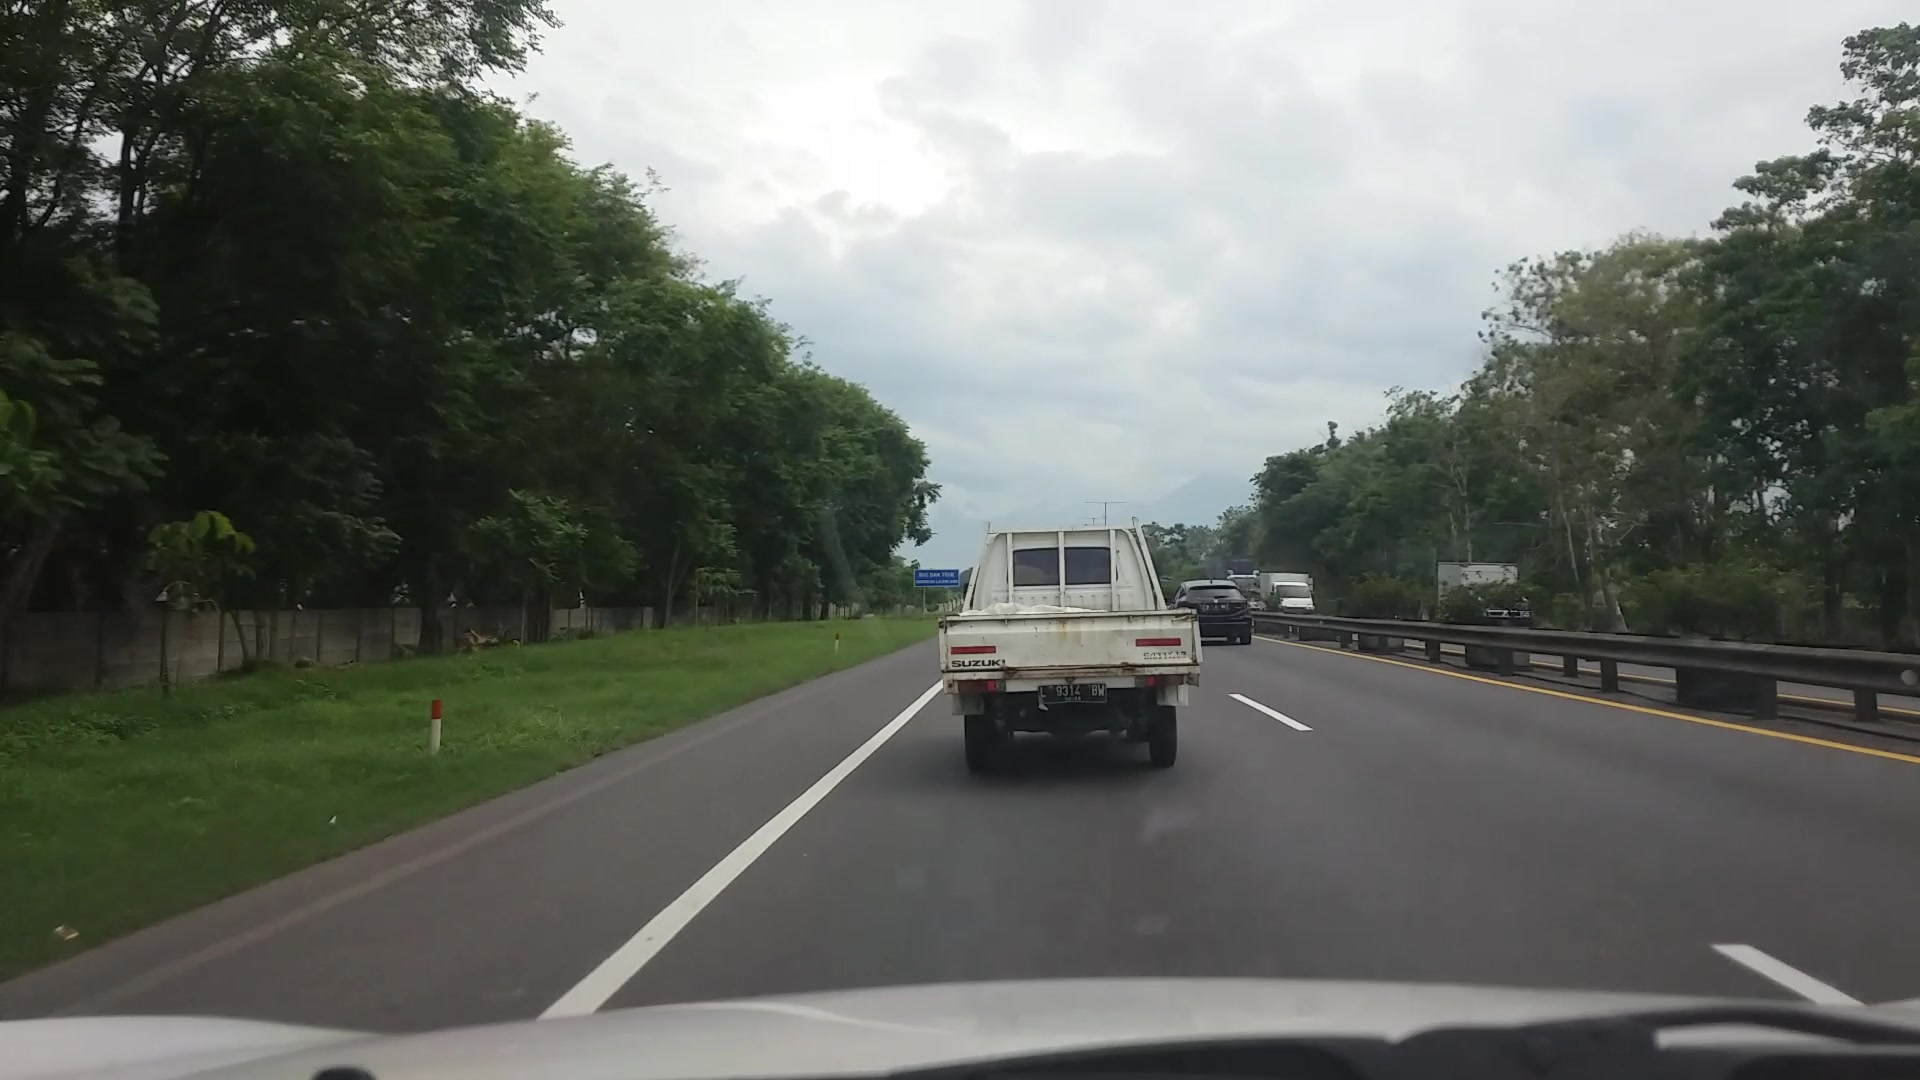plate_positive: (1038, 683, 1106, 705)
